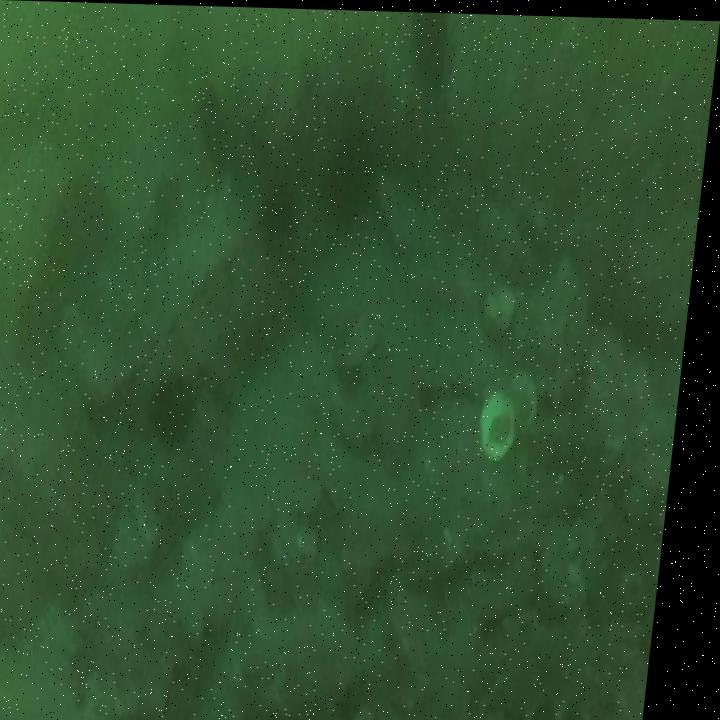echinus: (52, 187, 119, 280), (330, 140, 382, 223), (158, 374, 206, 448), (405, 13, 454, 83), (264, 177, 303, 239)
holothurian: (474, 615, 628, 720)
